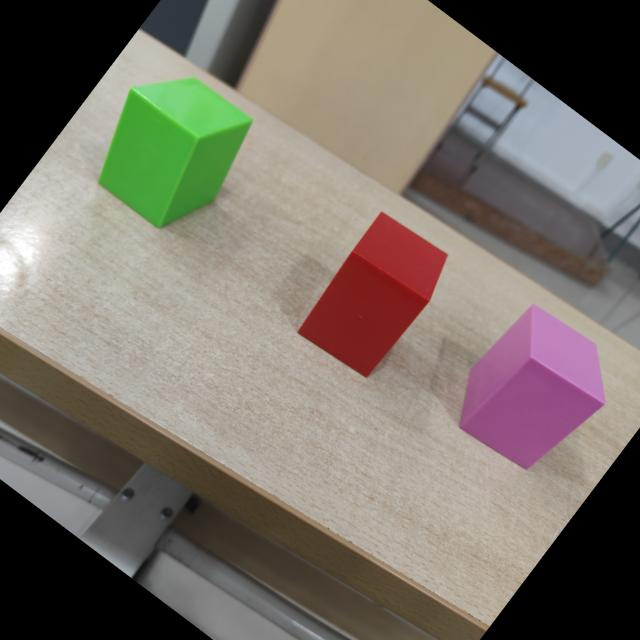green: (97, 77, 252, 230)
pink: (457, 306, 605, 471)
red: (296, 214, 447, 379)
